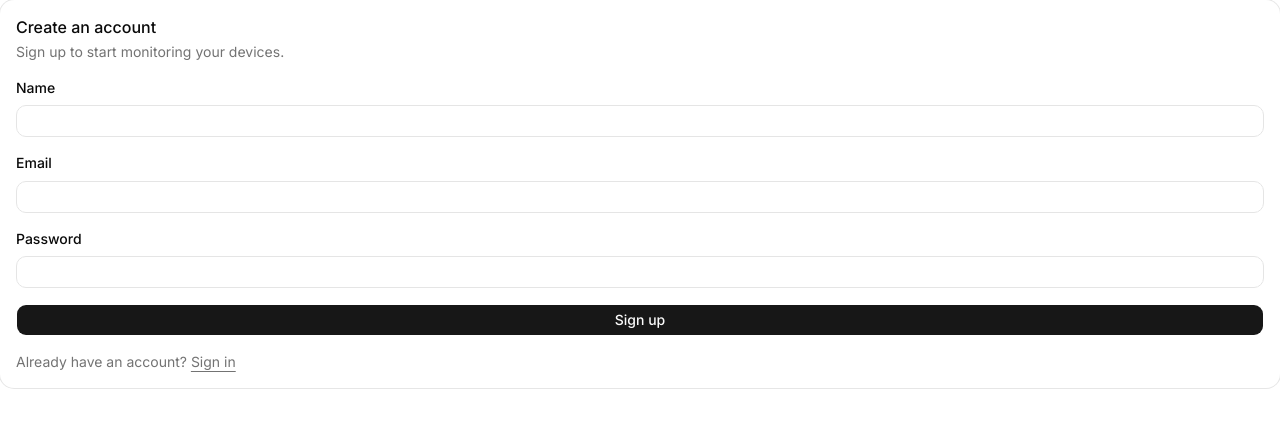
AuthForm › shows the name error when signup is submitted without a name
Type "person@example.test" into the field labelled "Email" at [640, 196], box [16,180,1264,212]
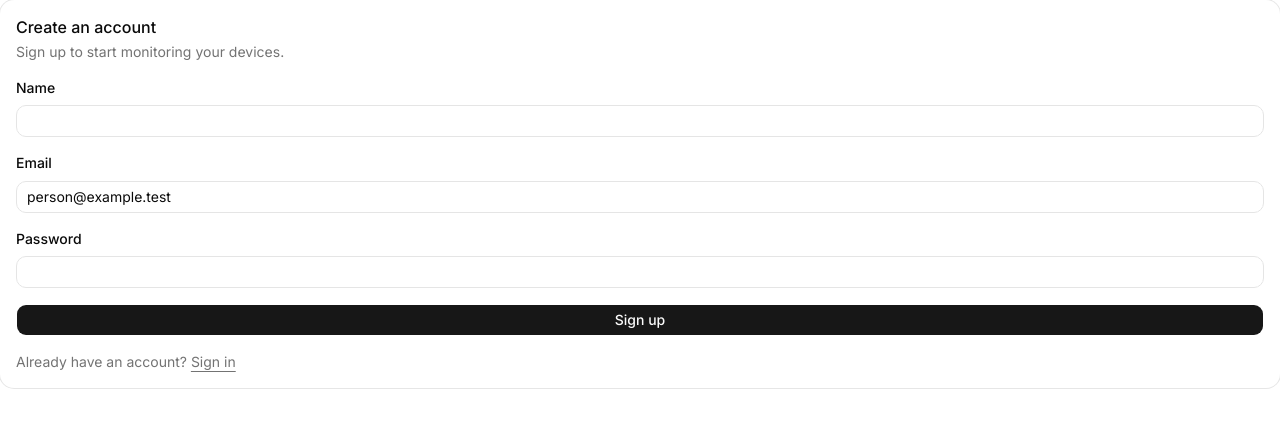
Type "example-password" into the password field labelled "Password" at [640, 272], box [16,256,1264,288]
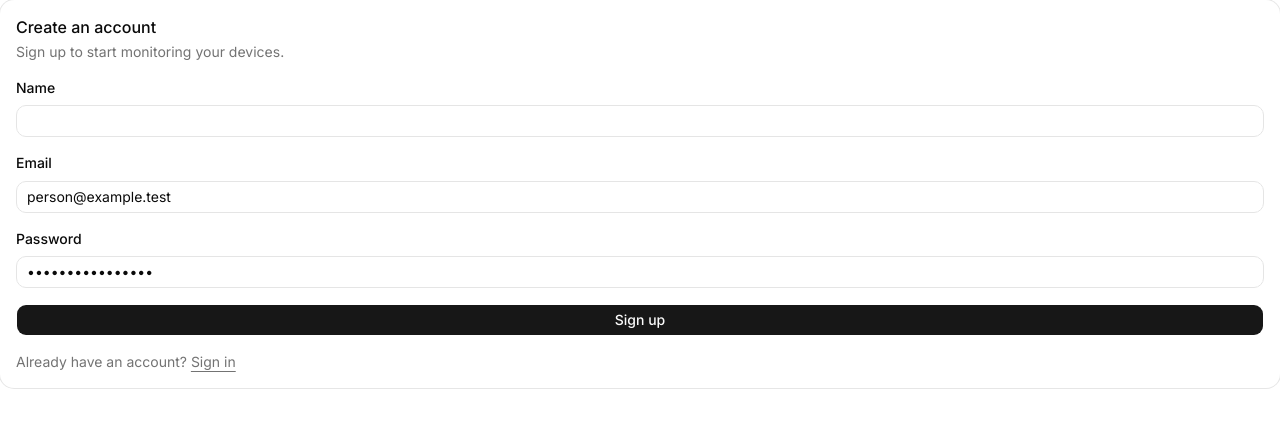
Click the button "Sign up" at [640, 320], box [16,304,1264,336]
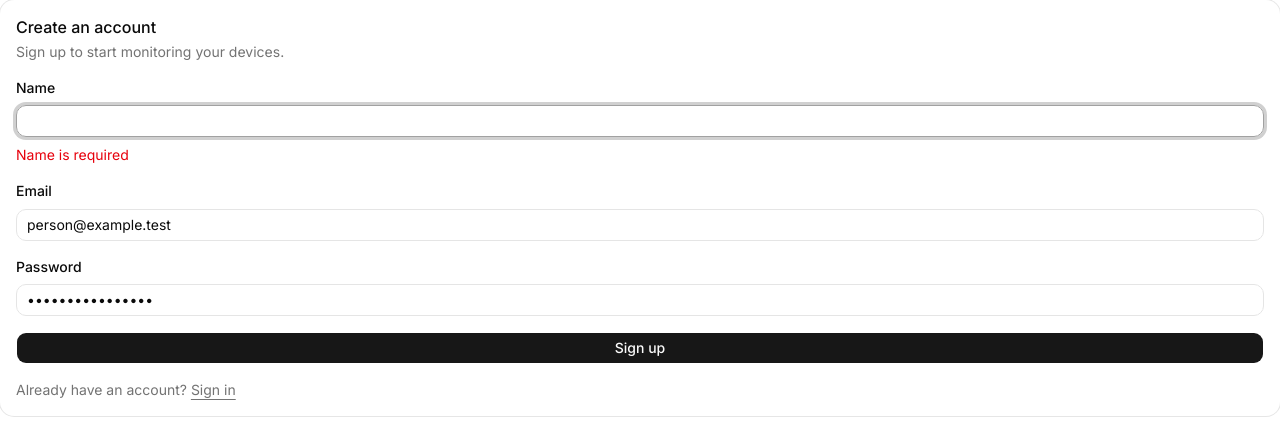
Expected: the text "Name is required" is shown, [16,146,129,163]
